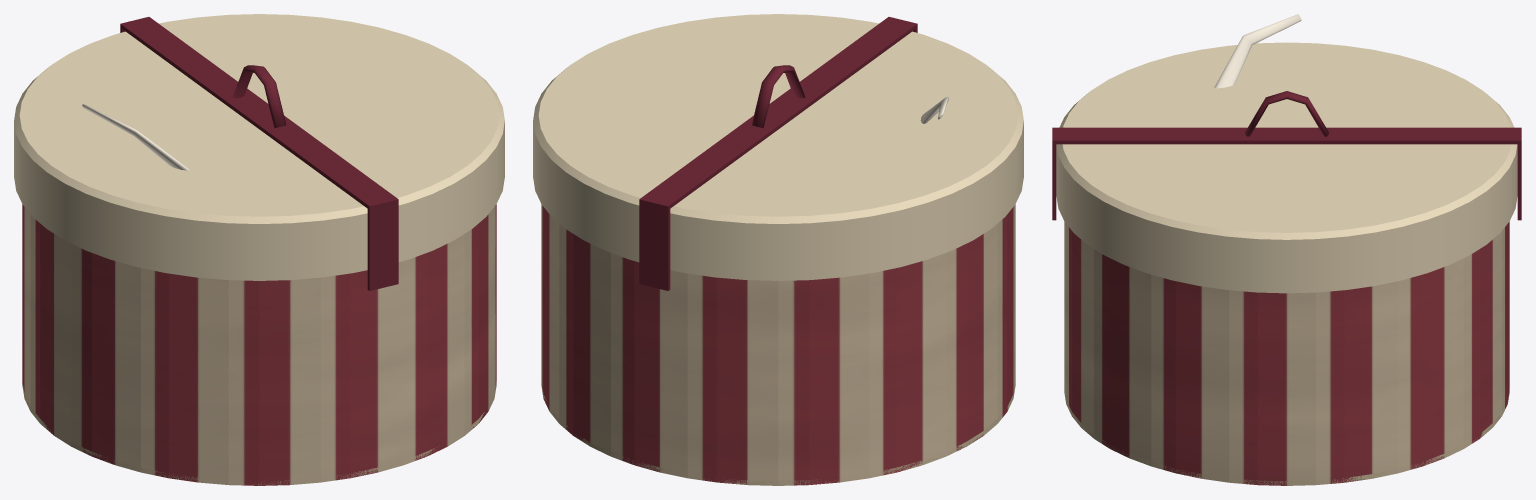
Rendered from hatbox.fbx.
3 views of the same model, side by side, from view 1: azimuth 30°, elevation 25°; view 2: azimuth 150°, elevation 25°; view 3: azimuth 270°, elevation 25° (orthographic). The views are drawn at different scales.
Parts seen in each view (by area): view 1: Lid, hatbox; view 2: Lid, hatbox; view 3: Lid, hatbox.
Part boxes in pixels (left/top/right/bottom): Lid: left=14, top=14, right=504, bottom=290; hatbox: left=22, top=104, right=496, bottom=485; Lid: left=533, top=14, right=1023, bottom=290; hatbox: left=541, top=96, right=1015, bottom=485; Lid: left=1052, top=42, right=1521, bottom=293; hatbox: left=1064, top=14, right=1509, bottom=485.
Size of the model in its own units: 0.352 by 0.2525 by 0.358.
